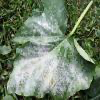Squash Powdery mildew leaf: (6, 0, 95, 97)
